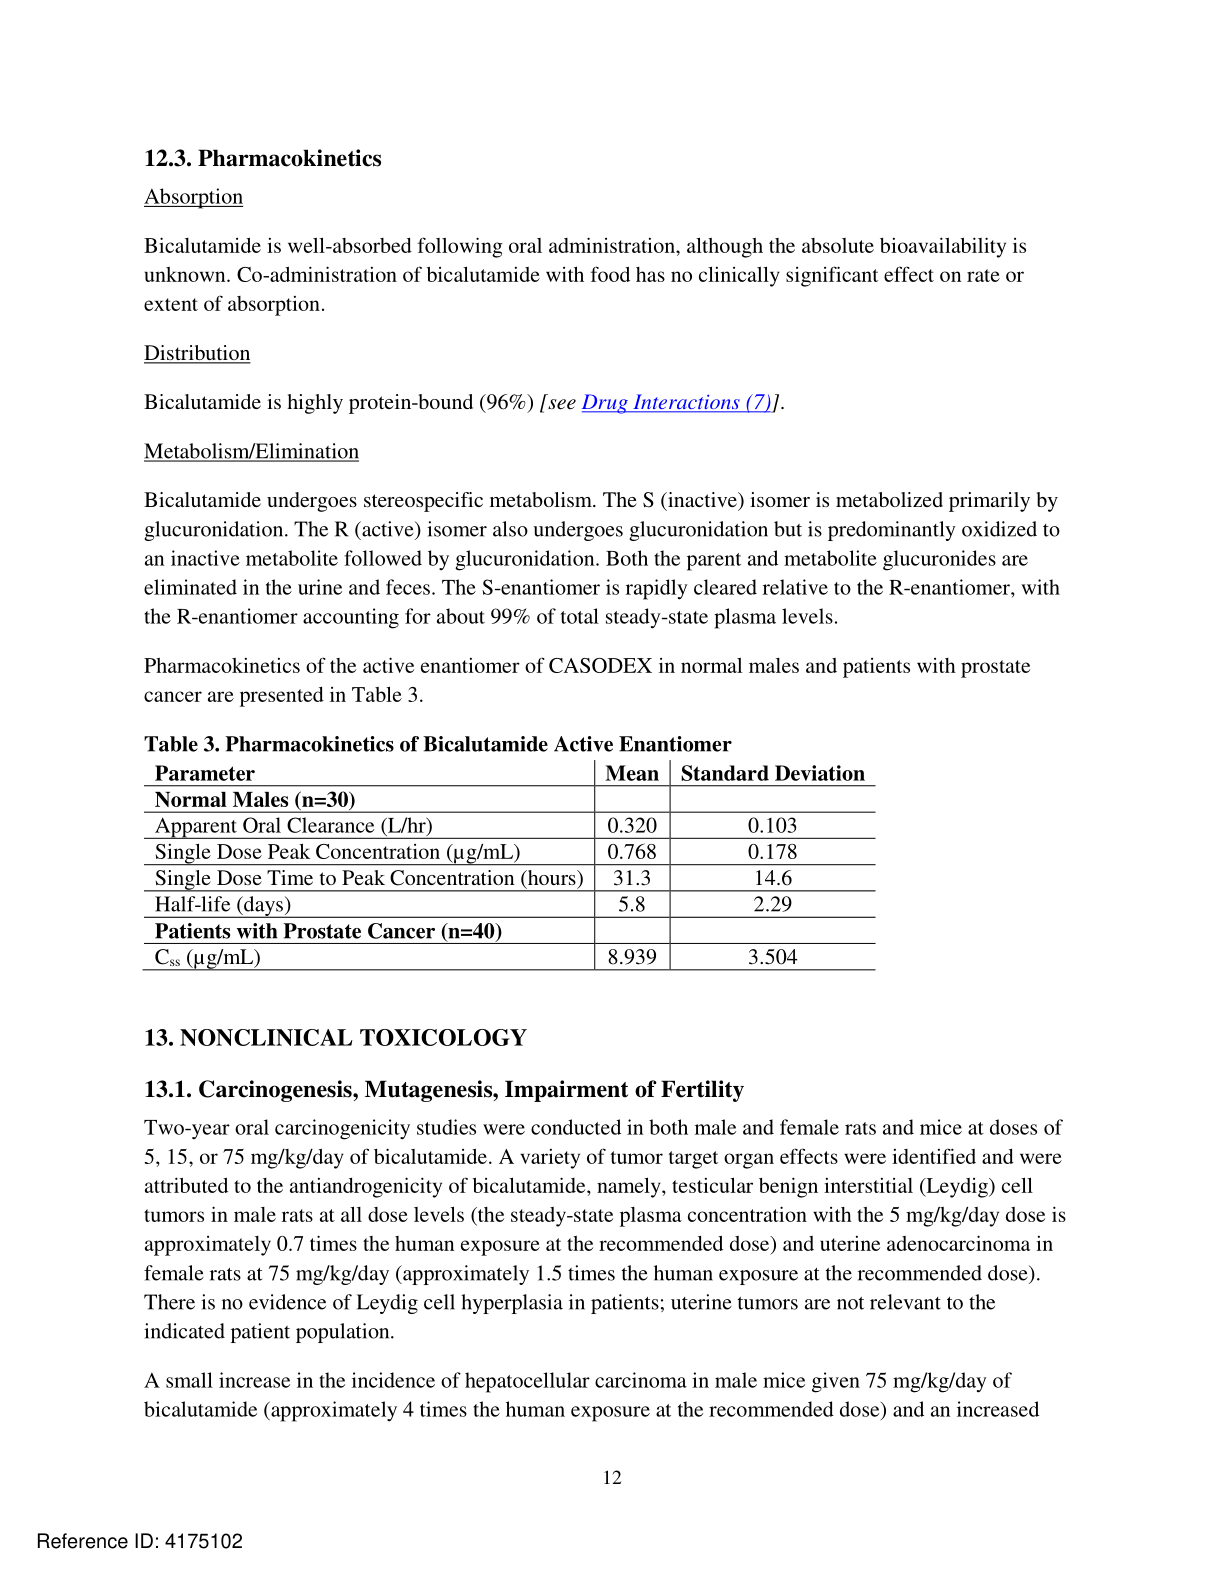partial_lined: (143, 760, 877, 971)
